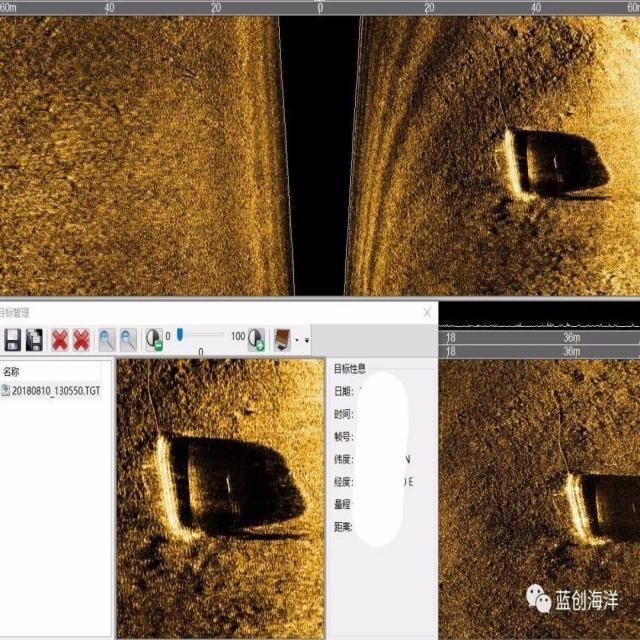shipwreck: (151, 434, 205, 542), (562, 469, 608, 548), (497, 120, 539, 204)
